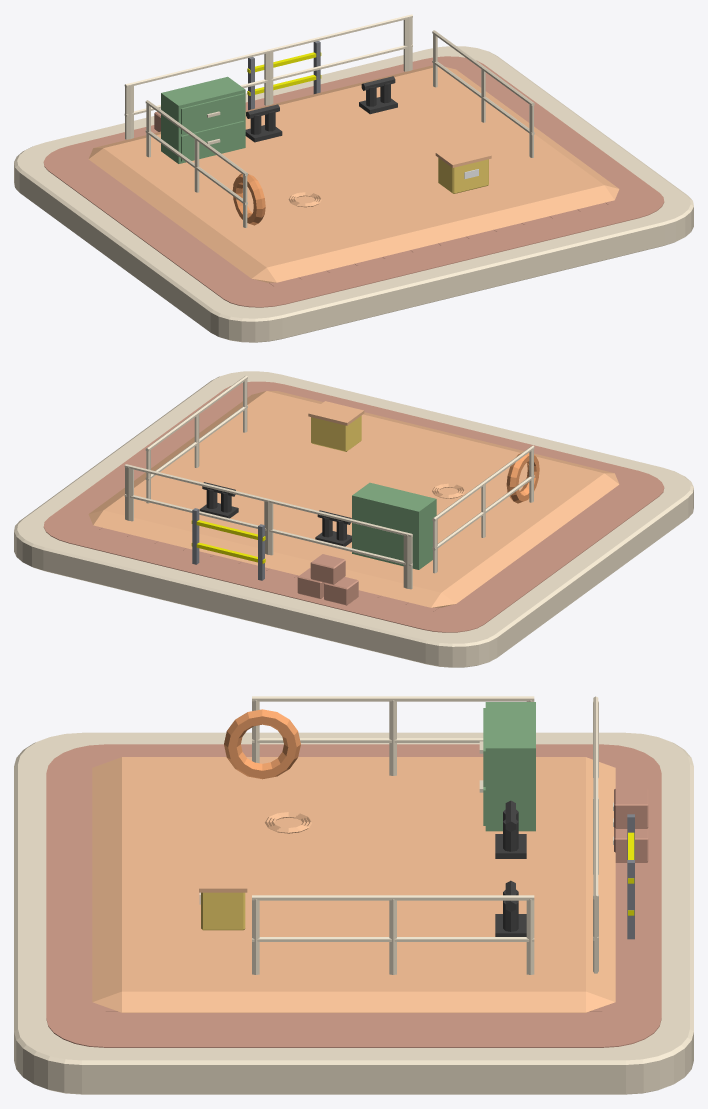
The picture shows the model from 3 angles, top to bottom: view 1: azimuth 30°, elevation 25°; view 2: azimuth 150°, elevation 25°; view 3: azimuth 270°, elevation 25°; orthographic projection. The views are drawn at different scales.
Parts seen in each view (by area): view 1: Deck, COM-01 Rounded Base Direct, COM-02 Floor Surface, Cabinet, Box, Rail.005, Life ring, Lid, Rail.004, Rail.003, Rail.001, Rail.002 (+3 smaller); view 2: Deck, COM-01 Rounded Base Direct, COM-02 Floor Surface, Cabinet, Box, Rail.005, Rail.004, Life ring, Stacked case.002, Lid, Stacked case, Stacked case.001 (+7 smaller); view 3: Deck, COM-01 Rounded Base Direct, COM-02 Floor Surface, Cabinet, Life ring, Box, Rail.001, Rail.003, Lid, Rail.002, Stacked case.002, Rail.005 (+3 smaller).
Boxes of the visible parts, <box> form: Deck: <box>88,65,619,282</box>; COM-01 Rounded Base Direct: <box>14,46,693,342</box>; COM-02 Floor Surface: <box>43,56,664,307</box>; Cabinet: <box>161,76,245,163</box>; Box: <box>438,158,488,193</box>; Rail.005: <box>124,14,412,87</box>; Life ring: <box>232,173,265,225</box>; Lid: <box>435,143,491,167</box>; Rail.004: <box>124,44,412,116</box>; Rail.003: <box>432,30,534,106</box>; Rail.001: <box>145,100,247,176</box>; Rail.002: <box>432,60,534,135</box>; Deck: <box>88,391,619,607</box>; COM-01 Rounded Base Direct: <box>14,371,693,667</box>; COM-02 Floor Surface: <box>43,381,664,632</box>; Cabinet: <box>352,482,436,569</box>; Box: <box>311,415,361,451</box>; Rail.005: <box>124,464,412,537</box>; Rail.004: <box>124,494,412,566</box>; Life ring: <box>506,453,539,503</box>; Stacked case.002: <box>310,554,345,584</box>; Lid: <box>308,401,364,425</box>; Stacked case: <box>324,577,358,605</box>; Stacked case.001: <box>297,568,324,598</box>; Deck: <box>92,757,615,1012</box>; COM-01 Rounded Base Direct: <box>14,732,693,1094</box>; COM-02 Floor Surface: <box>46,744,661,1047</box>; Cabinet: <box>479,702,535,831</box>; Life ring: <box>224,709,300,779</box>; Box: <box>201,892,245,930</box>; Rail.001: <box>252,696,534,701</box>; Rail.003: <box>252,895,534,900</box>; Lid: <box>199,861,247,892</box>; Rail.002: <box>252,937,534,941</box>; Stacked case.002: <box>614,788,648,828</box>; Rail.005: <box>593,696,598,900</box>.
Bounding box in the file's own units: 6 × 1.18 × 5.2.
1 material, 1 textured.
